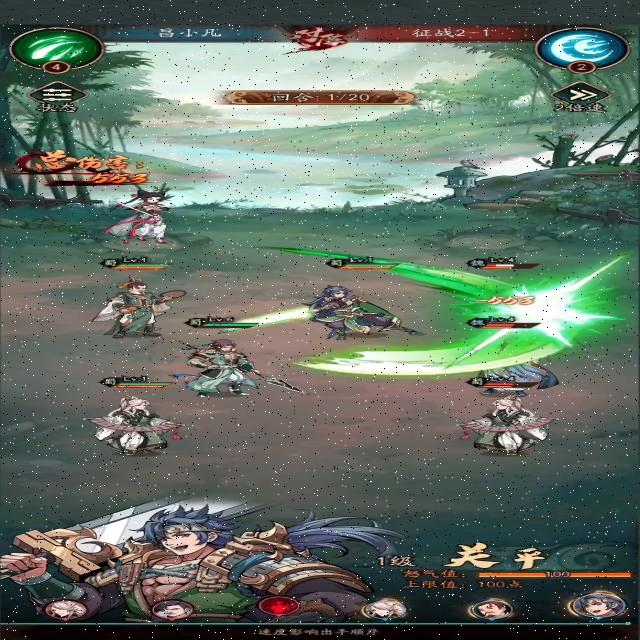hint-guide: (254, 625, 384, 639)
